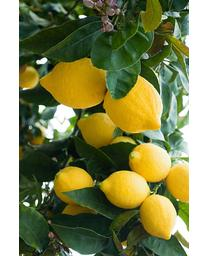lemon: (40, 56, 109, 110), (103, 74, 163, 133), (99, 171, 151, 209), (140, 195, 178, 238), (130, 143, 173, 181), (76, 112, 118, 149), (51, 166, 92, 202)
